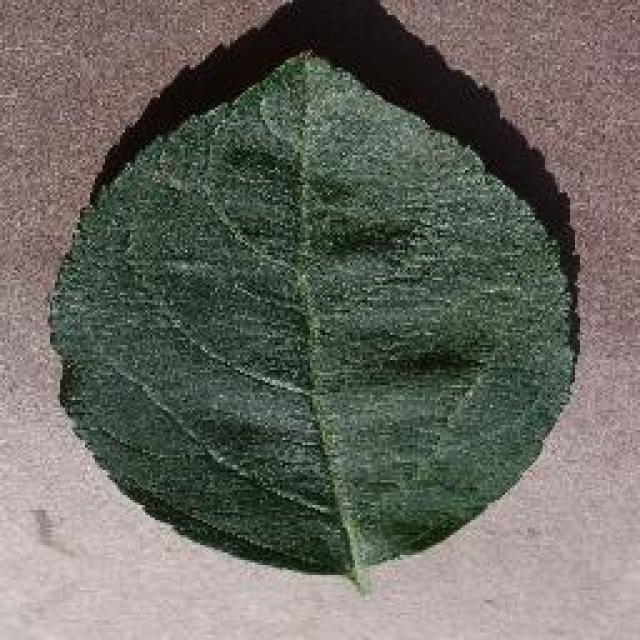apple healthy: (45, 45, 583, 593)
